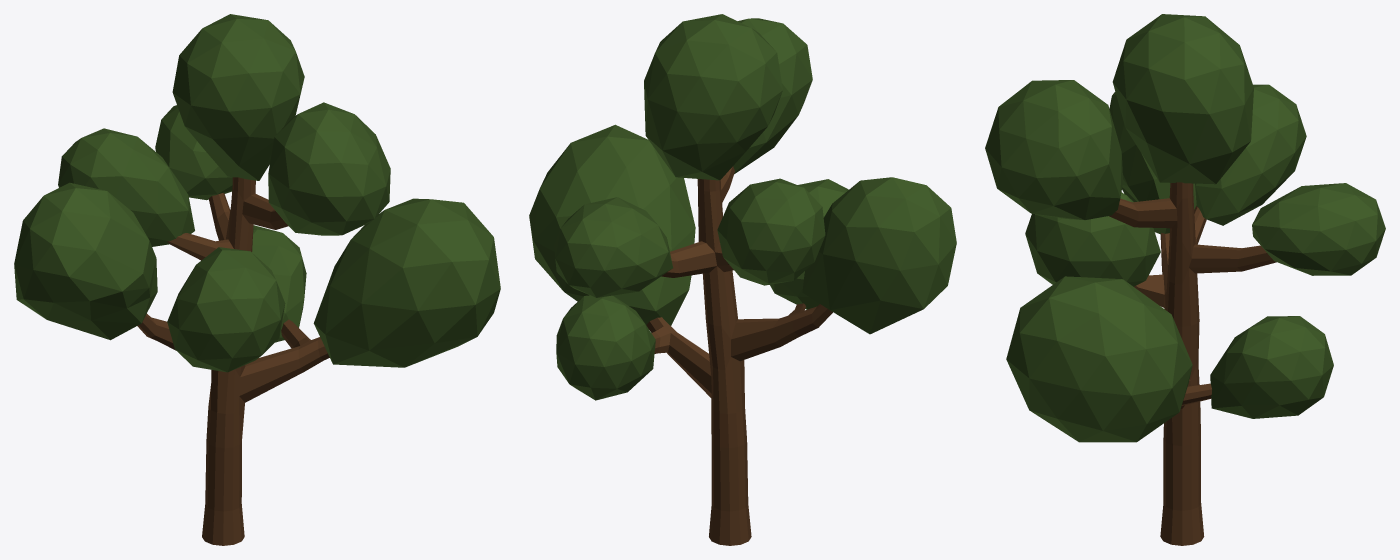
3 renders of one model, left to right at view 1: azimuth 30°, elevation 25°; view 2: azimuth 150°, elevation 25°; view 3: azimuth 270°, elevation 25°, orthographic. The views are drawn at different scales.
Parts seen in each view (by area): view 1: Icosphere, Cylinder; view 2: Icosphere, Cylinder; view 3: Icosphere, Cylinder.
Part boxes in pixels (bbox=[...]): Icosphere: bbox=[14, 14, 500, 372]; Cylinder: bbox=[137, 177, 329, 545]; Icosphere: bbox=[529, 14, 956, 400]; Cylinder: bbox=[646, 166, 832, 545]; Icosphere: bbox=[985, 14, 1385, 442]; Cylinder: bbox=[1109, 182, 1276, 545].
Bounding box in the file's own units: 14.8 × 16.73 × 11.54.
